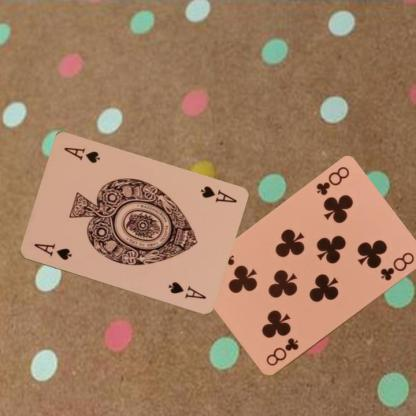8c: (313, 164, 351, 197), (263, 335, 300, 368)
As: (30, 241, 72, 262), (198, 183, 238, 205)
